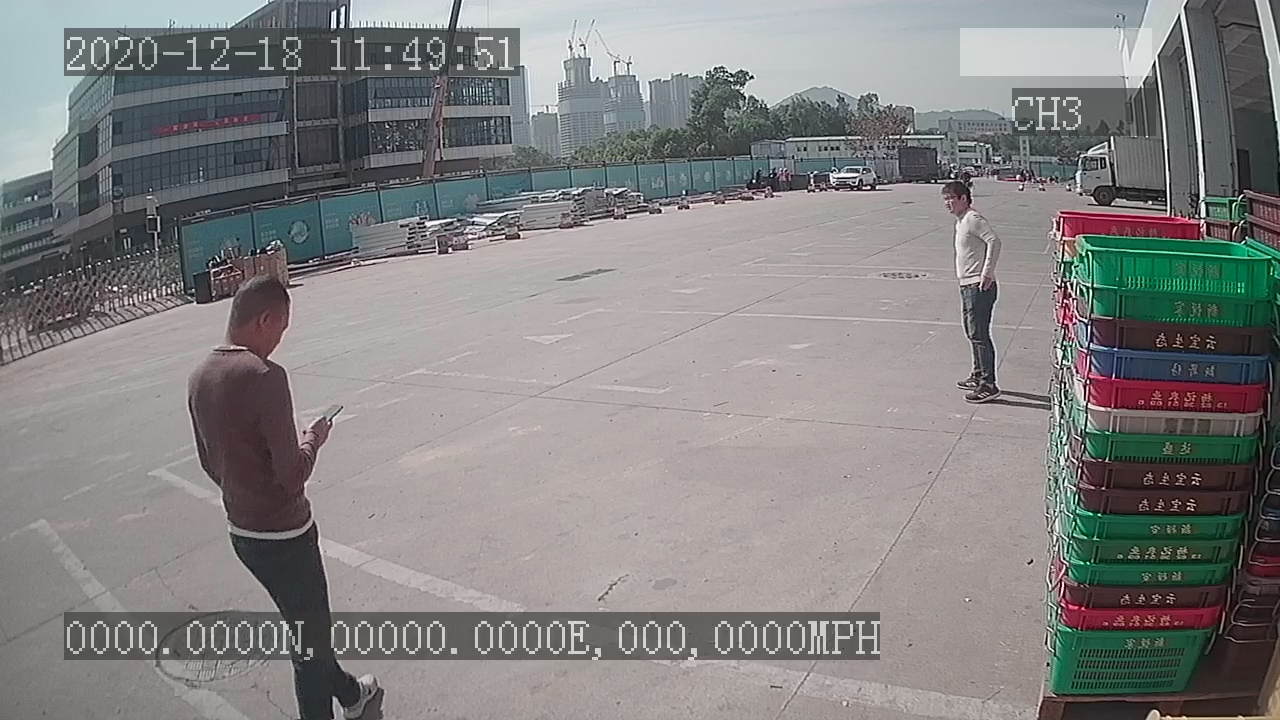person: (933, 176, 1008, 406)
